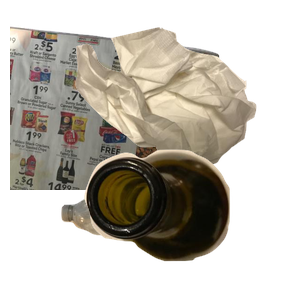glass: (82, 147, 300, 300)
paper: (10, 21, 222, 201)
plastic: (59, 193, 241, 300)
trash: (73, 25, 300, 183)
